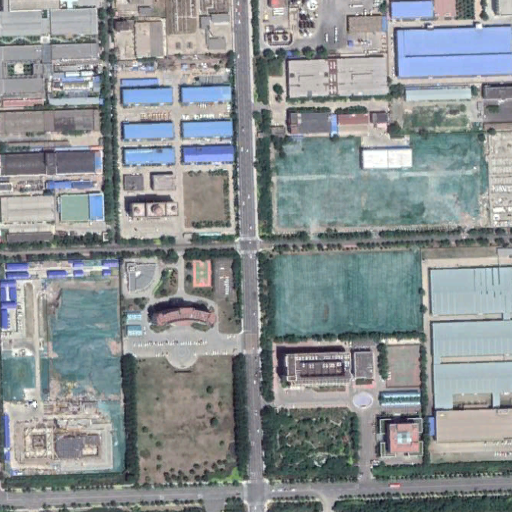cw: (274, 130, 491, 236), (4, 282, 123, 473), (270, 254, 421, 336)
